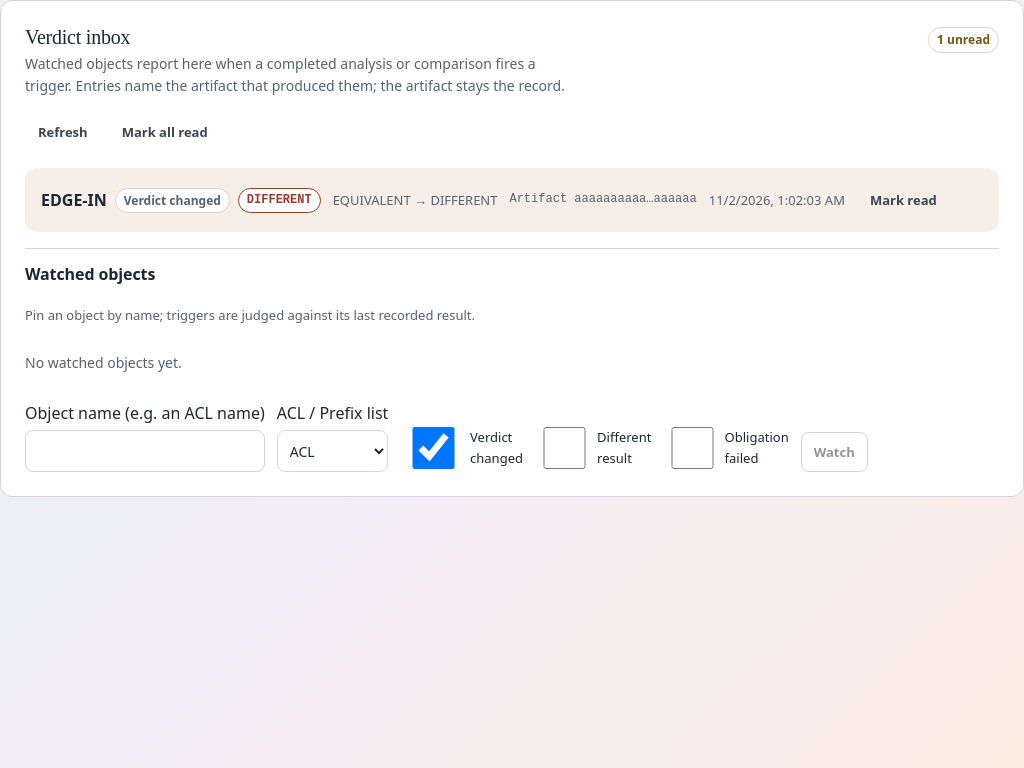
P2-8 verdict inbox panel › marks an entry read through the API and refreshes from the response
Click the button "Mark read": (903, 200) x1=857 y1=180 x2=950 y2=220
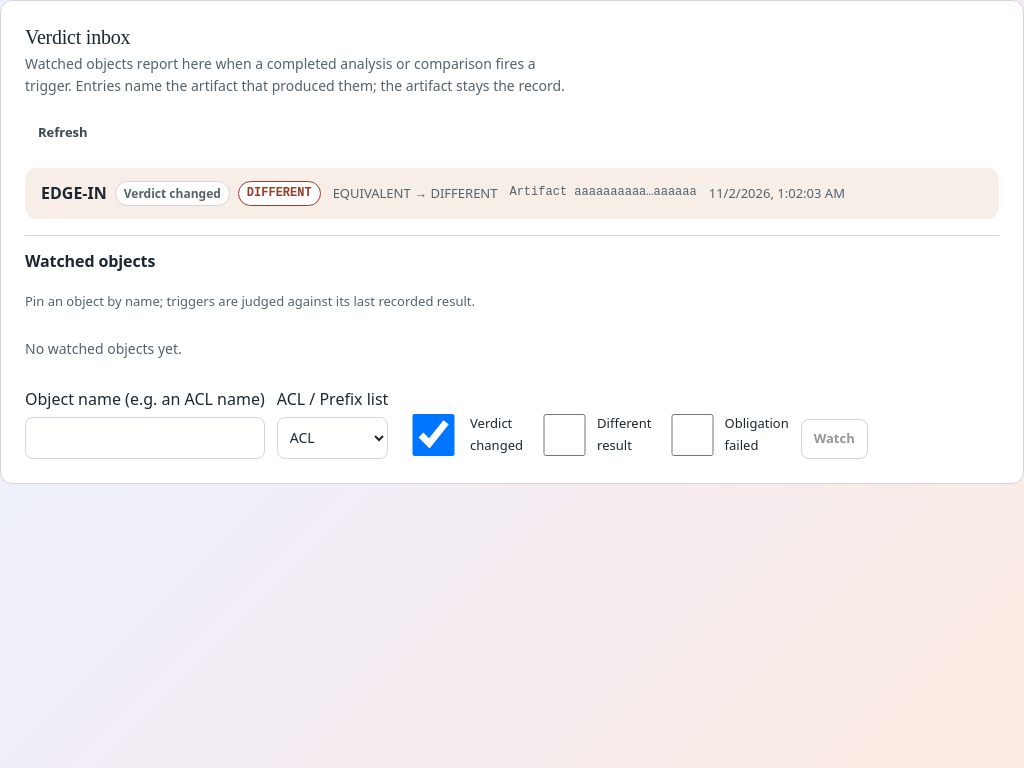
expect the button "Mark read" is gone: met
